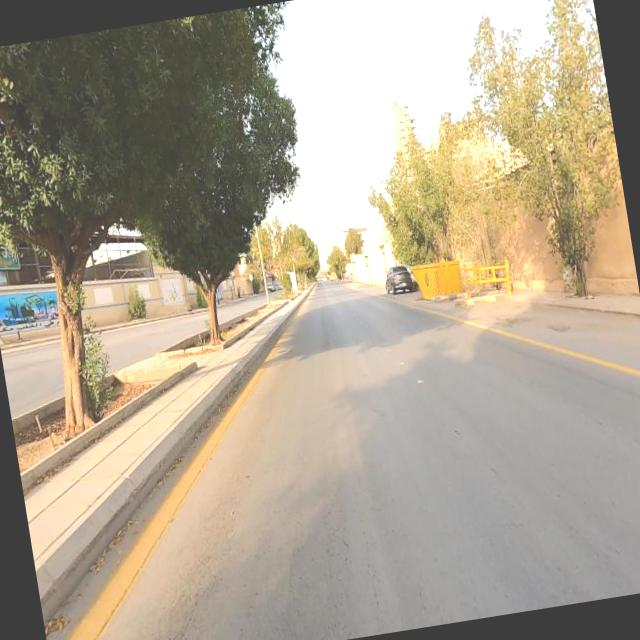debris: (376, 210, 499, 352)
